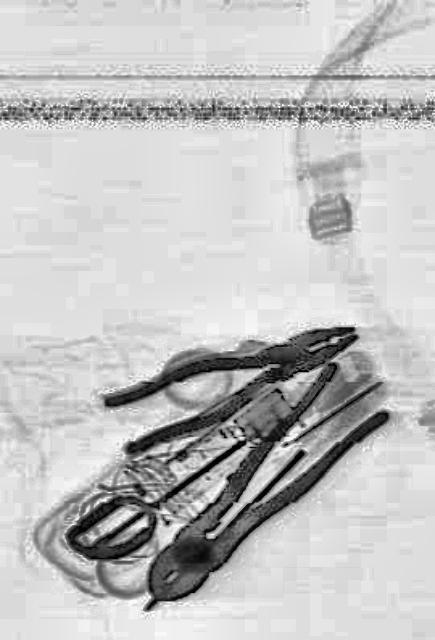Pliers: (131, 338, 389, 634), (99, 288, 362, 464)
